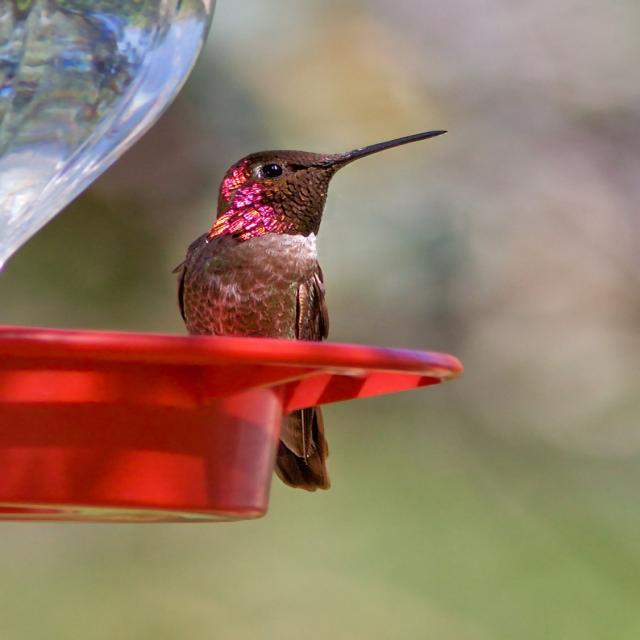bird: (185, 117, 450, 506)
